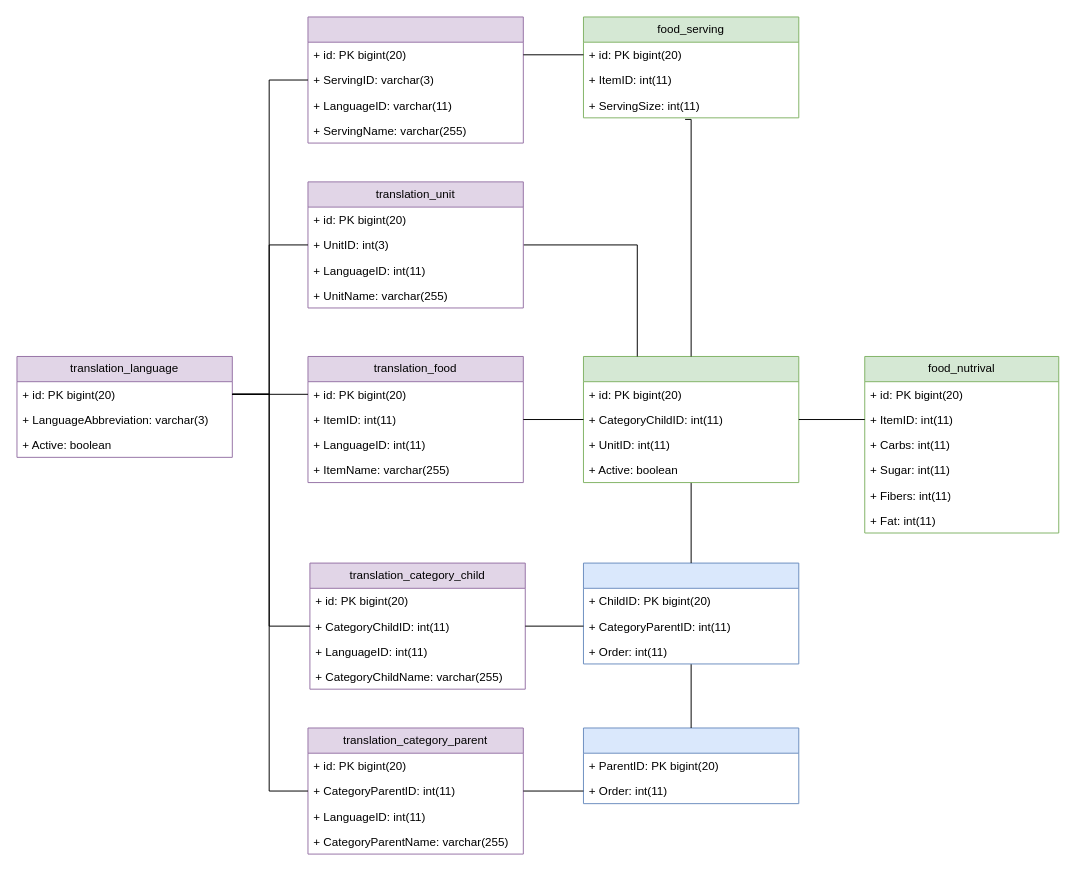
The diagram is 1076 pixels wide and 874 high, and some of its shapes have lost their labels. The box of each missing label's shape, as (x1, y1, x2, y2) in pixels:
food_category_child: (582, 562, 799, 664)
food_category_parent: (582, 727, 799, 804)
food_item: (582, 356, 799, 483)
translation_serving: (307, 16, 523, 143)
